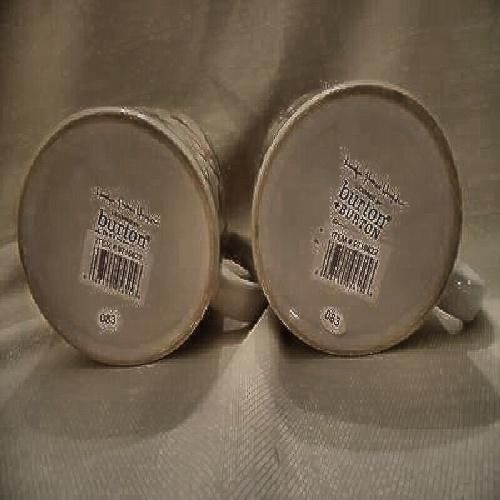mug: (239, 92, 481, 332), (27, 111, 233, 365)
